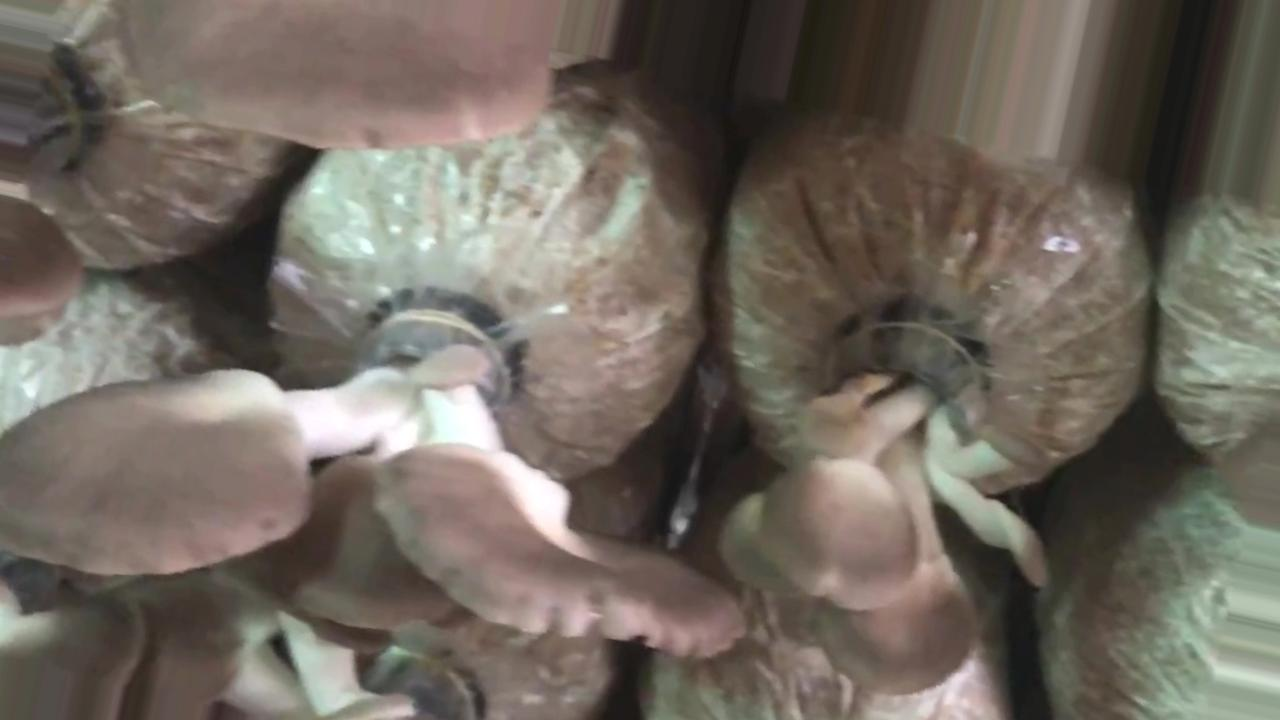nam: (1, 295, 748, 665), (717, 296, 1050, 700), (117, 7, 559, 153)
